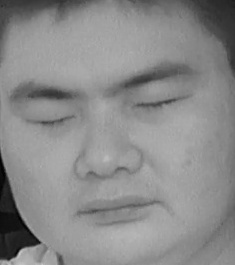blink: (29, 101, 79, 140), (135, 84, 188, 120)
mouth: (74, 186, 159, 232)
